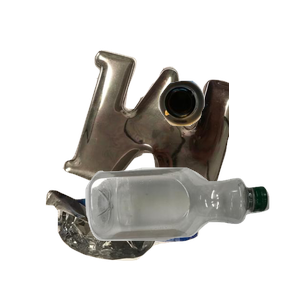glass: (156, 78, 300, 197)
metal: (60, 47, 300, 227)
plastic: (83, 165, 300, 300)
trash: (43, 187, 234, 300)
